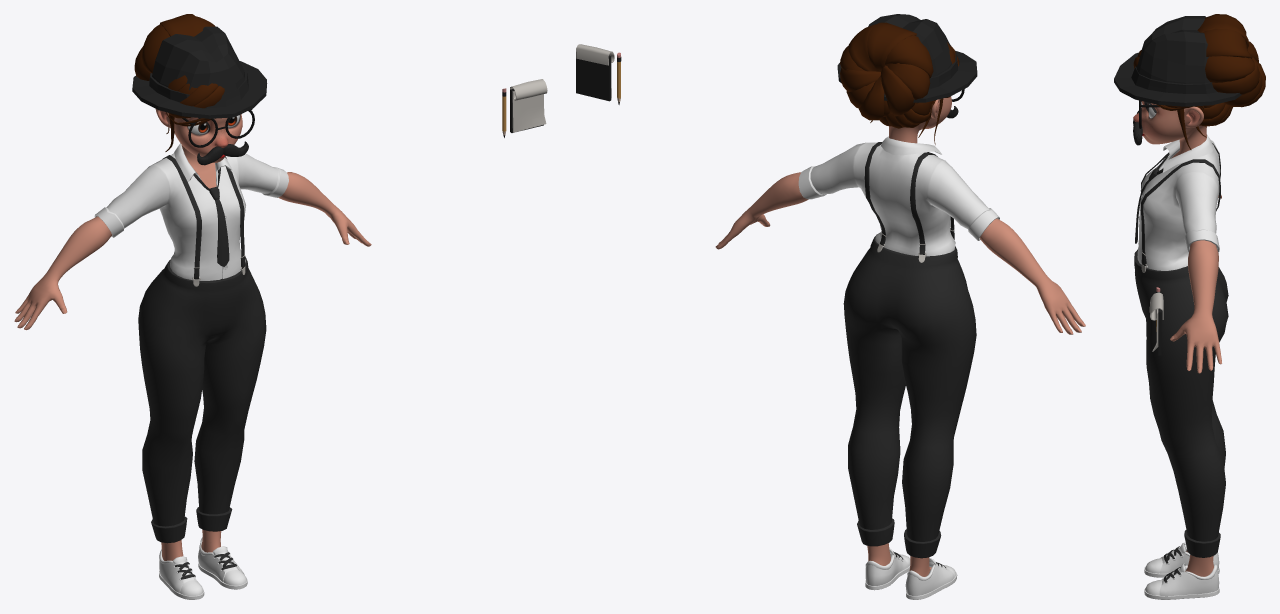
File: Waitress.fbx
3 views of the same model, side by side, from view 1: azimuth 30°, elevation 25°; view 2: azimuth 150°, elevation 25°; view 3: azimuth 270°, elevation 25° (orthographic). The views are drawn at different scales.
Visible parts, largest first — view 1: pants, shirt, body2, hat, hair, shoes, note, bretel, tie; view 2: pants, shirt, hair, body2, hat, shoes, note, bretel, hair2; view 3: pants, shirt, hat, body2, hair, shoes, bretel, hair2, note, tie.
Part boxes in pixels (left/top/right/bottom): pants: left=138, top=256, right=266, bottom=543; shirt: left=94, top=143, right=288, bottom=280; body2: left=14, top=109, right=371, bottom=560; hat: left=132, top=26, right=267, bottom=118; hair: left=134, top=14, right=224, bottom=151; shoes: left=159, top=537, right=247, bottom=599; note: left=510, top=79, right=547, bottom=132; bretel: left=162, top=155, right=245, bottom=286; tie: left=193, top=167, right=229, bottom=266; pants: left=843, top=236, right=976, bottom=558; shirt: left=798, top=136, right=999, bottom=256; hair: left=840, top=22, right=959, bottom=143; body2: left=715, top=96, right=1085, bottom=576; hat: left=837, top=14, right=977, bottom=102; shoes: left=865, top=548, right=957, bottom=599; note: left=576, top=44, right=614, bottom=101; bretel: left=864, top=142, right=954, bottom=262; hair2: left=870, top=98, right=943, bottom=144; pants: left=1134, top=249, right=1228, bottom=557; shirt: left=1137, top=134, right=1220, bottom=270; hat: left=1114, top=16, right=1241, bottom=106; body2: left=1133, top=101, right=1221, bottom=576; hair: left=1133, top=14, right=1265, bottom=149; shoes: left=1144, top=542, right=1219, bottom=599; bretel: left=1140, top=143, right=1220, bottom=272; hair2: left=1162, top=102, right=1231, bottom=149; note: left=1149, top=292, right=1163, bottom=355; tie: left=1135, top=154, right=1169, bottom=243.
Bounding box in the file's own units: 89.59 × 92.54 × 22.67.
